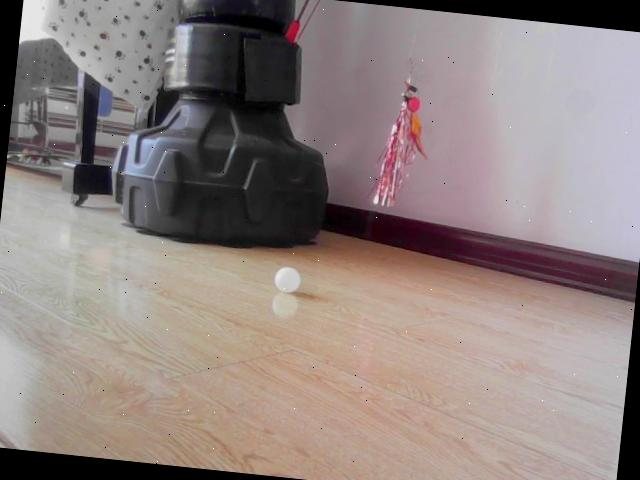ball: (274, 267, 302, 294)
